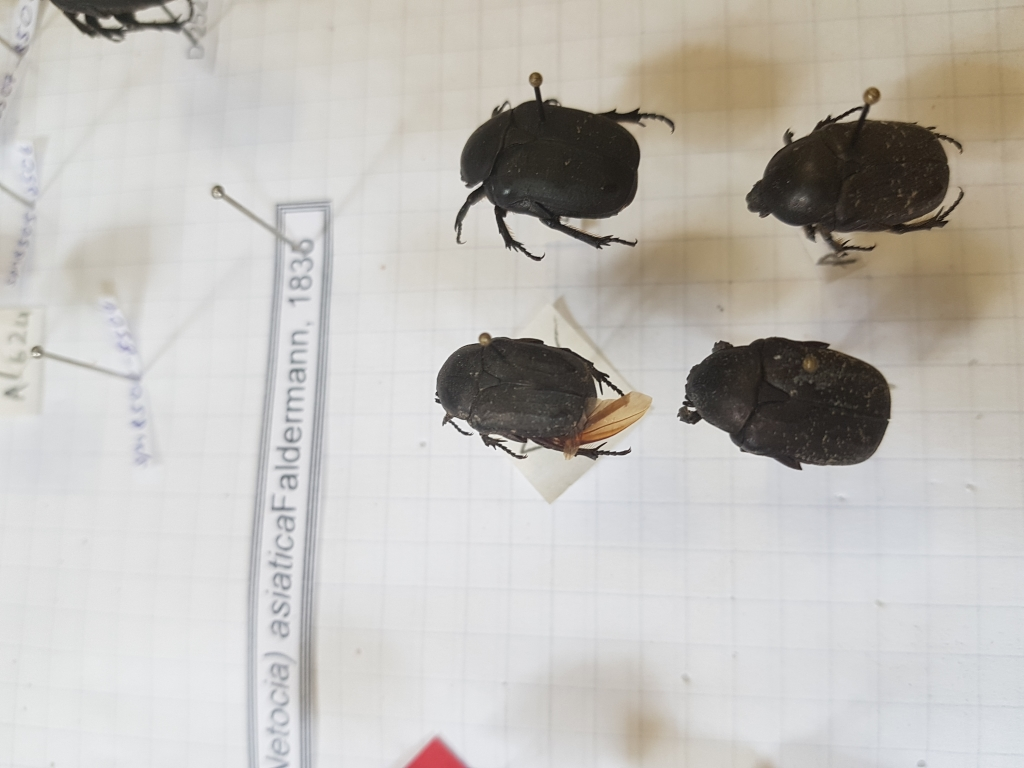Protaetia_asiatica: (740, 100, 976, 278), (454, 91, 682, 260), (665, 331, 900, 487), (431, 332, 653, 471)
